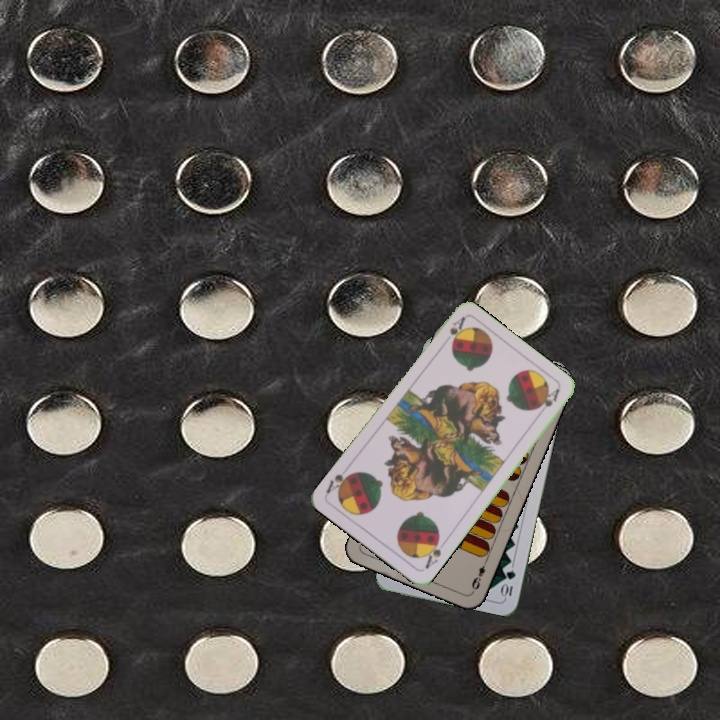E9: (468, 556, 490, 594)
G10: (498, 566, 518, 600)
SA: (419, 533, 444, 572), (446, 313, 468, 347)
